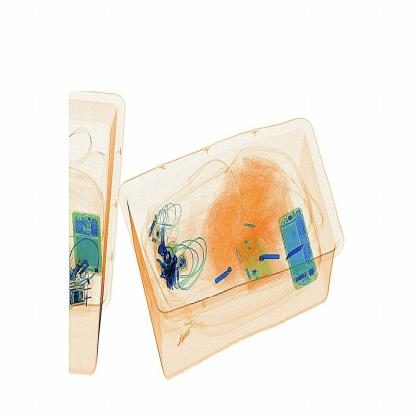pliers: (284, 234, 315, 272)
